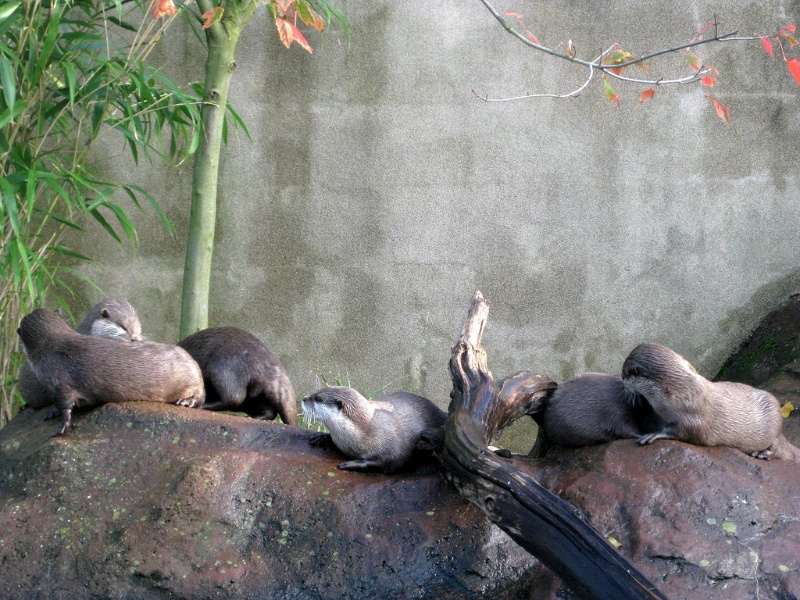minkish: (619, 333, 791, 469), (12, 305, 211, 420), (9, 285, 148, 415), (159, 319, 301, 437), (297, 379, 460, 474), (528, 362, 652, 455)
